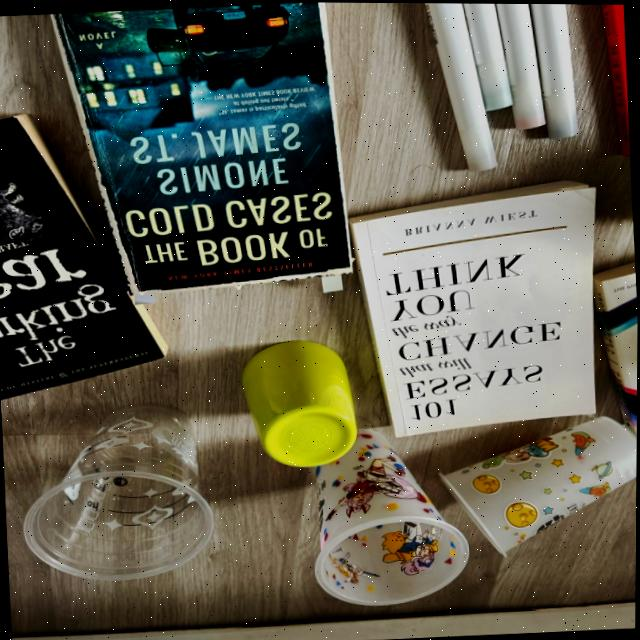Book: (57, 2, 351, 291), (351, 181, 596, 436), (0, 115, 167, 399), (595, 262, 638, 431), (601, 3, 630, 155)
HighLight Pen: (425, 2, 497, 170), (529, 3, 578, 138), (495, 3, 545, 128), (462, 3, 513, 110)
Plastic Cup: (25, 406, 215, 580), (441, 416, 637, 555), (316, 429, 470, 604)
WaterGlass: (243, 341, 357, 466)
